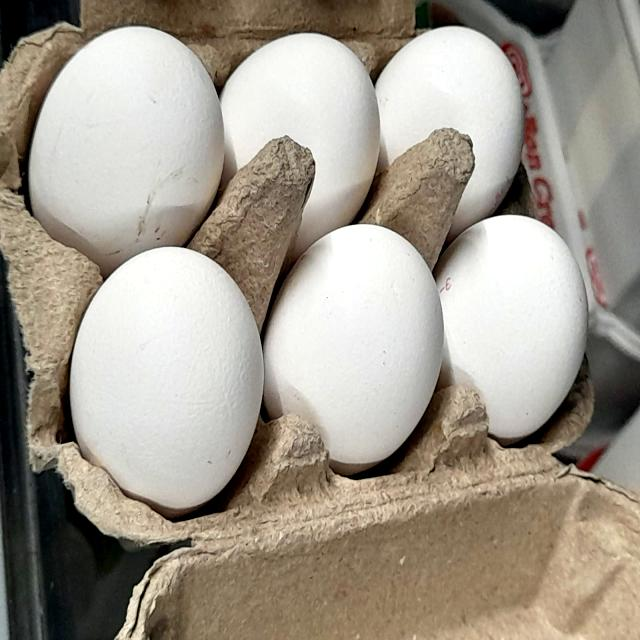egg: (61, 246, 263, 516), (258, 215, 440, 474), (31, 14, 222, 248), (437, 209, 586, 450), (223, 16, 380, 240), (371, 7, 527, 221)
